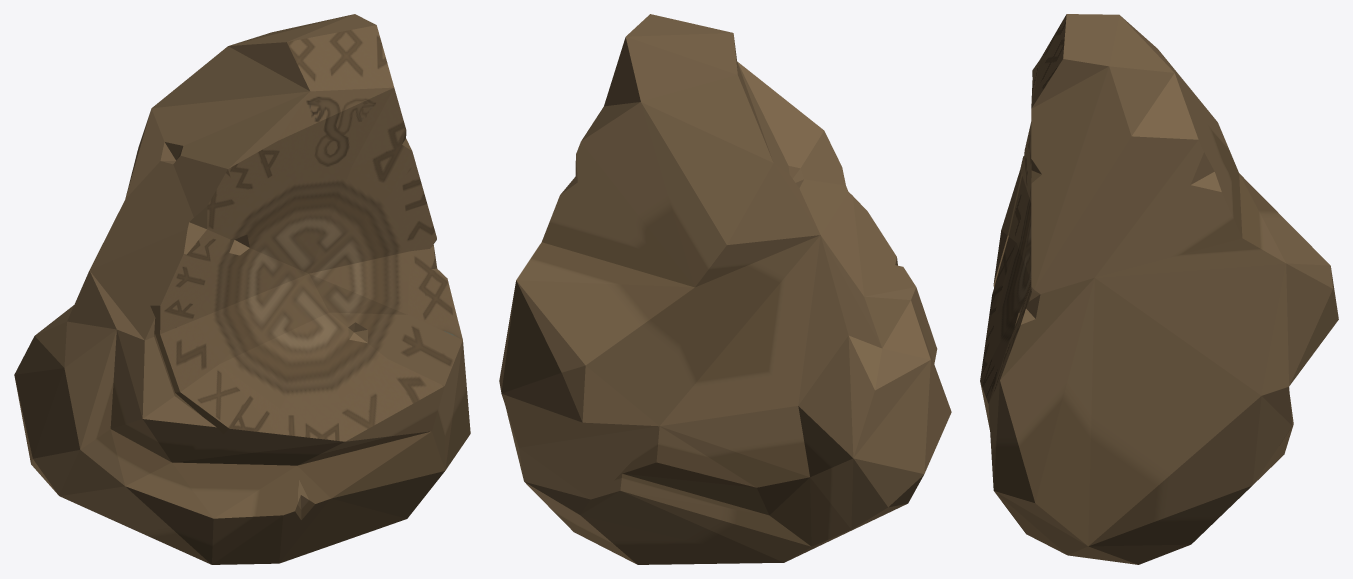
Rendered from SM_Prop_RuneStone_02.fbx.
3 views of the same model, side by side, from view 1: azimuth 30°, elevation 25°; view 2: azimuth 150°, elevation 25°; view 3: azimuth 270°, elevation 25° (orthographic). The views are drawn at different scales.
Parts seen in each view (by area): view 1: SM_Prop_RuneStone_02; view 2: SM_Prop_RuneStone_02; view 3: SM_Prop_RuneStone_02.
Part boxes in pixels (x1,y1,x2,y2): SM_Prop_RuneStone_02: (14,14,470,564); SM_Prop_RuneStone_02: (499,14,951,564); SM_Prop_RuneStone_02: (980,14,1338,564).
Bounding box in the file's own units: 200 × 244 × 161.
